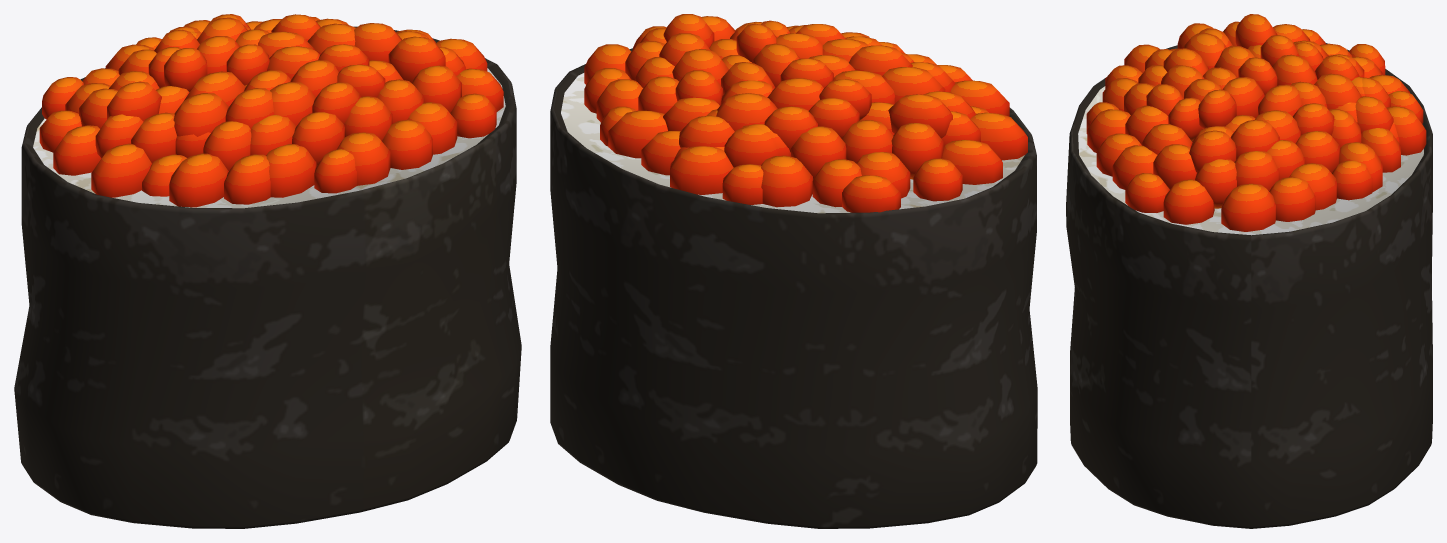
The model's file is Gunkan_maki.fbx.
3 renders of one model, left to right at view 1: azimuth 30°, elevation 25°; view 2: azimuth 150°, elevation 25°; view 3: azimuth 270°, elevation 25°, orthographic. The views are drawn at different scales.
Parts seen in each view (by area): view 1: Gunkan_maki; view 2: Gunkan_maki; view 3: Gunkan_maki.
Boxes of the visible parts, x1,y1,x2,y2 form: Gunkan_maki: (14,14,521,528); Gunkan_maki: (550,14,1037,528); Gunkan_maki: (1066,14,1432,528).
Size of the model in its own units: 0.6703 by 0.509 by 0.5513.
